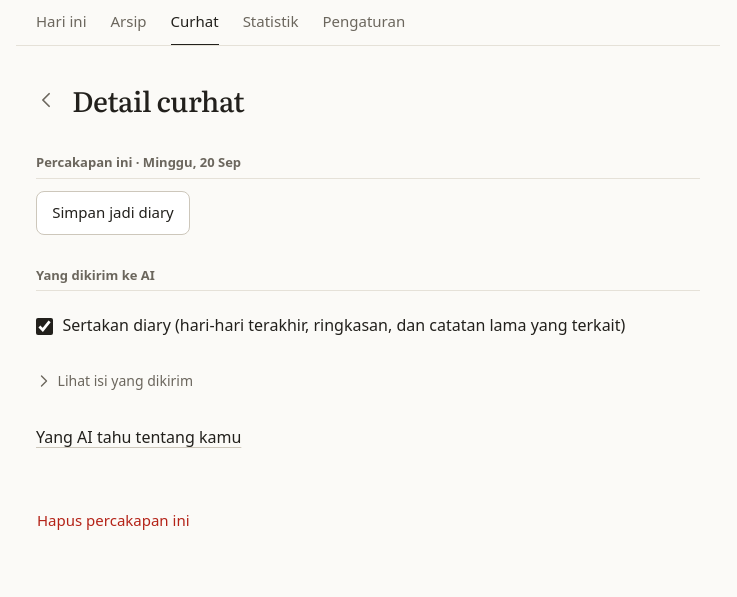
Test: a provider error shows its message and the button works again
Click the button "Simpan jadi diary" at (113, 213), box [36,191,190,235]
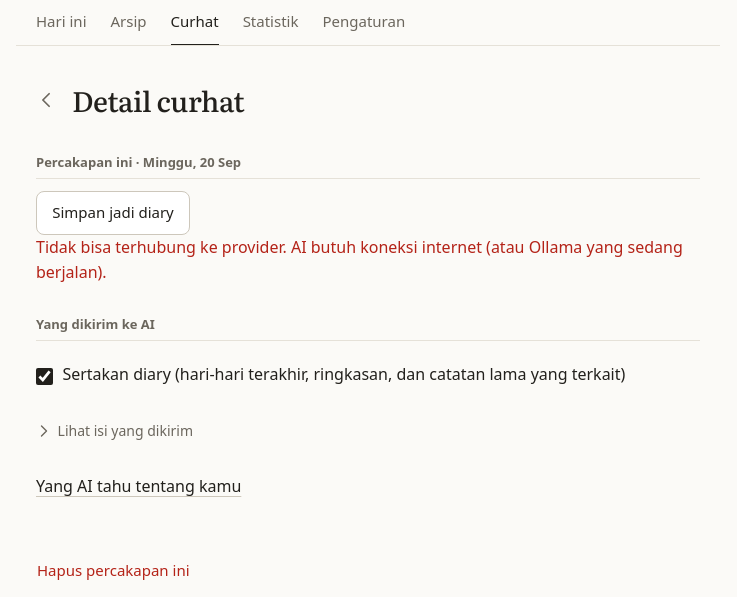
Check: the message shows "Tidak bisa terhubung ke provider. AI butuh koneksi internet (atau Ollama yang sedang berjalan).", box [36,236,683,282]
